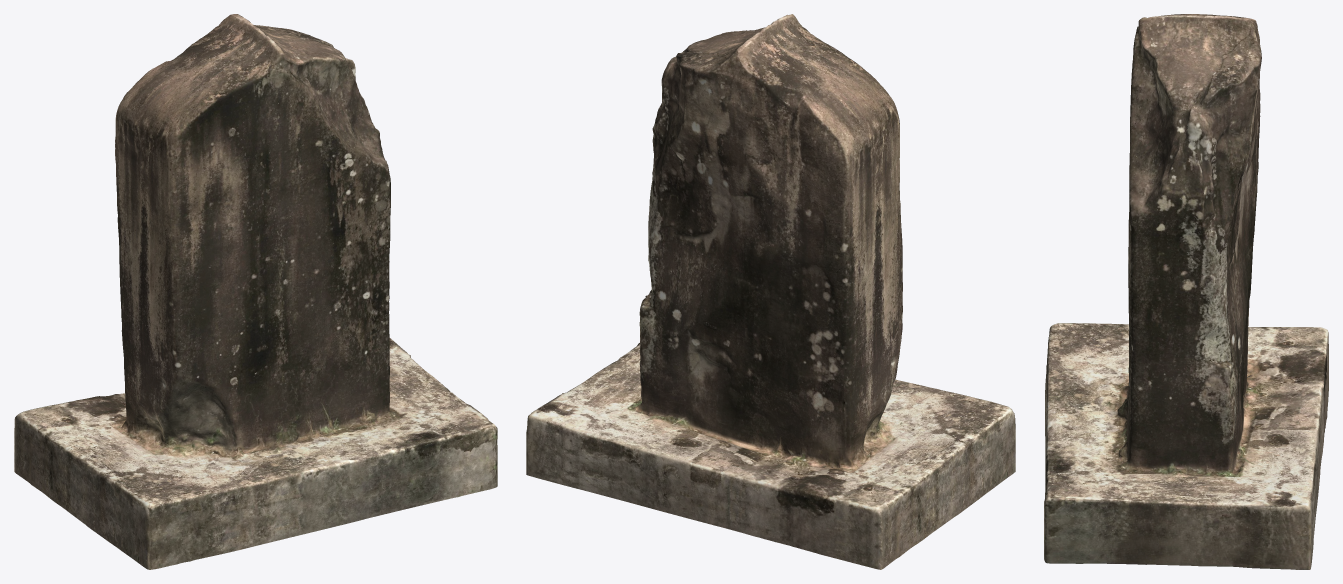
Rendered from 50_MysonSanctuaryD_vanbia_final.glb.
3 renders of one model, left to right at view 1: azimuth 30°, elevation 25°; view 2: azimuth 150°, elevation 25°; view 3: azimuth 270°, elevation 25°, orthographic. The views are drawn at different scales.
Size of the model in its own units: 1.34 by 1.58 by 0.8823.
Materials: 1 (1 with a texture image).
